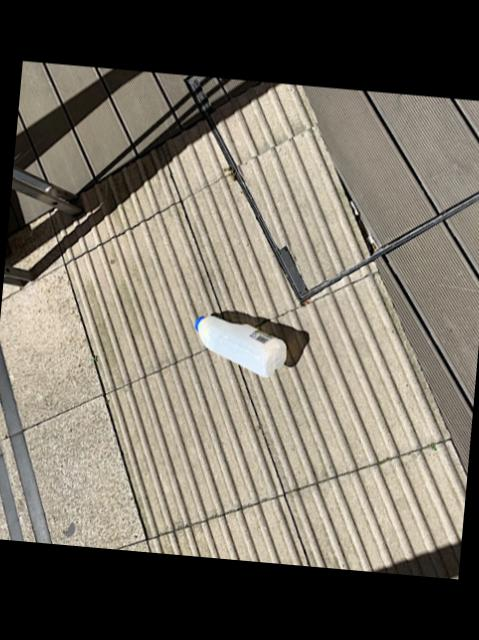plastic: (195, 317, 285, 378)
